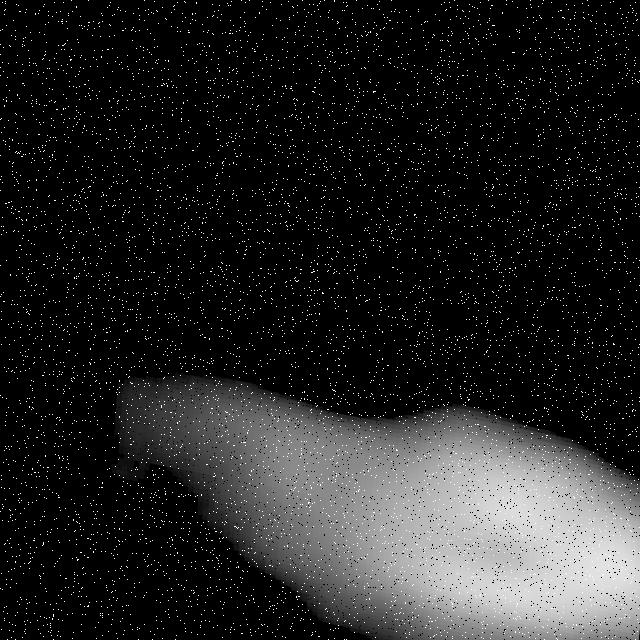person: (152, 339, 640, 640)
